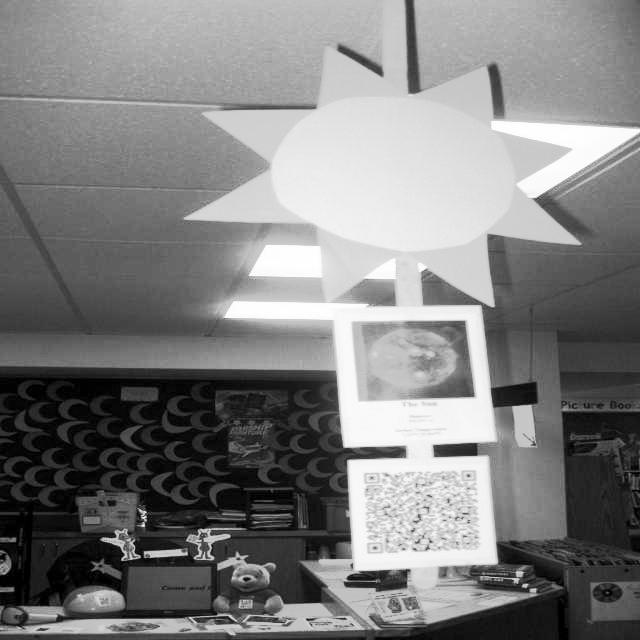qr_code: (364, 471, 480, 553)
